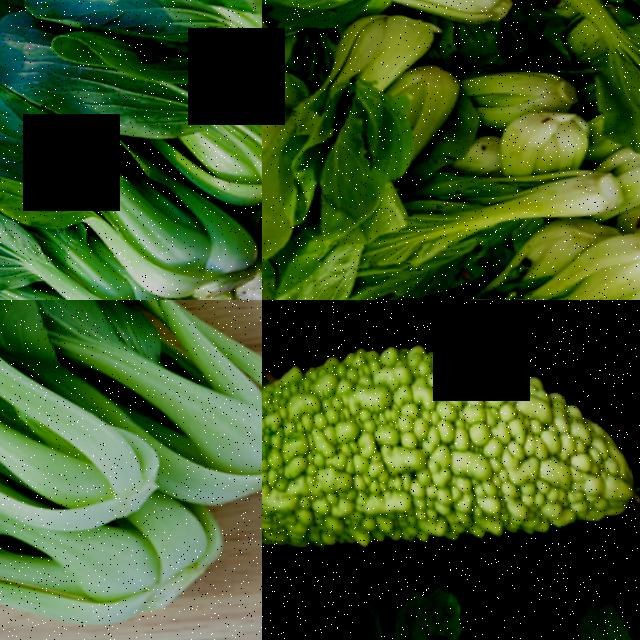bitter gourd: (262, 300, 640, 640)
bok choy: (79, 71, 262, 300), (0, 300, 164, 546), (0, 484, 243, 640), (103, 300, 262, 489), (262, 25, 377, 247), (417, 143, 628, 257), (507, 0, 640, 152), (170, 0, 262, 165), (0, 183, 121, 300), (262, 0, 516, 54), (458, 242, 640, 300), (492, 91, 588, 175)
